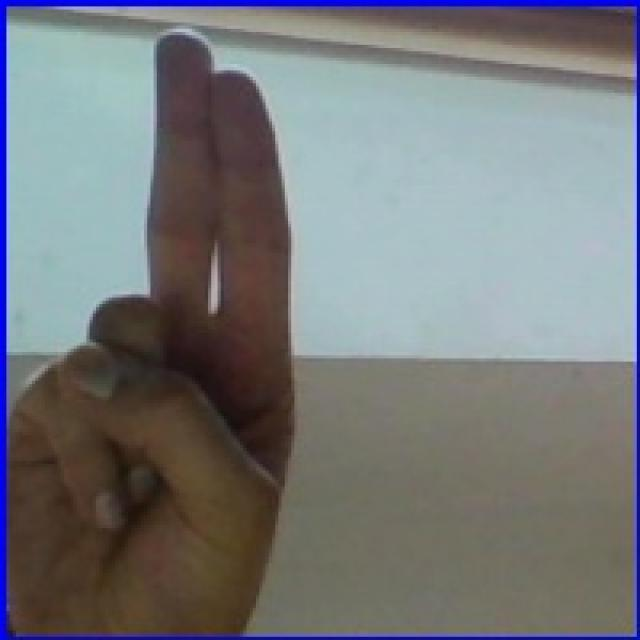U: (2, 17, 333, 634)
